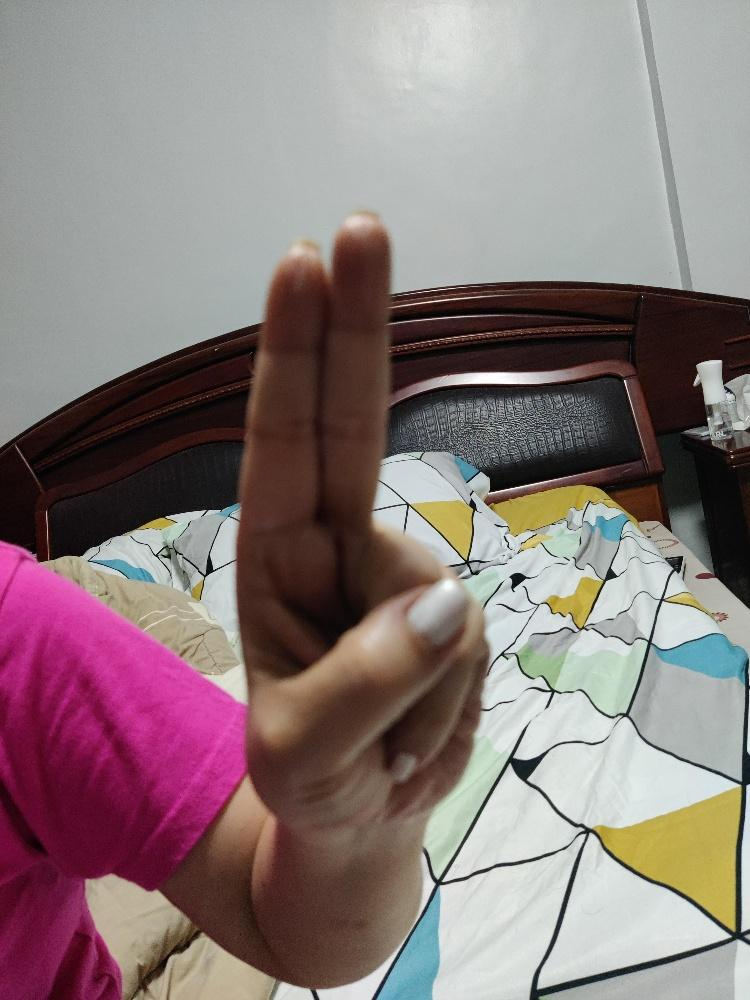u: (233, 208, 490, 831)
